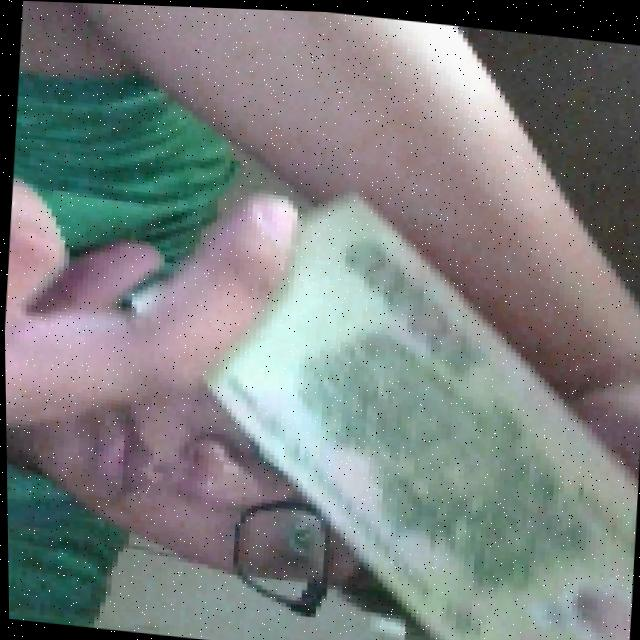100 000 VND: (175, 169, 640, 640)
